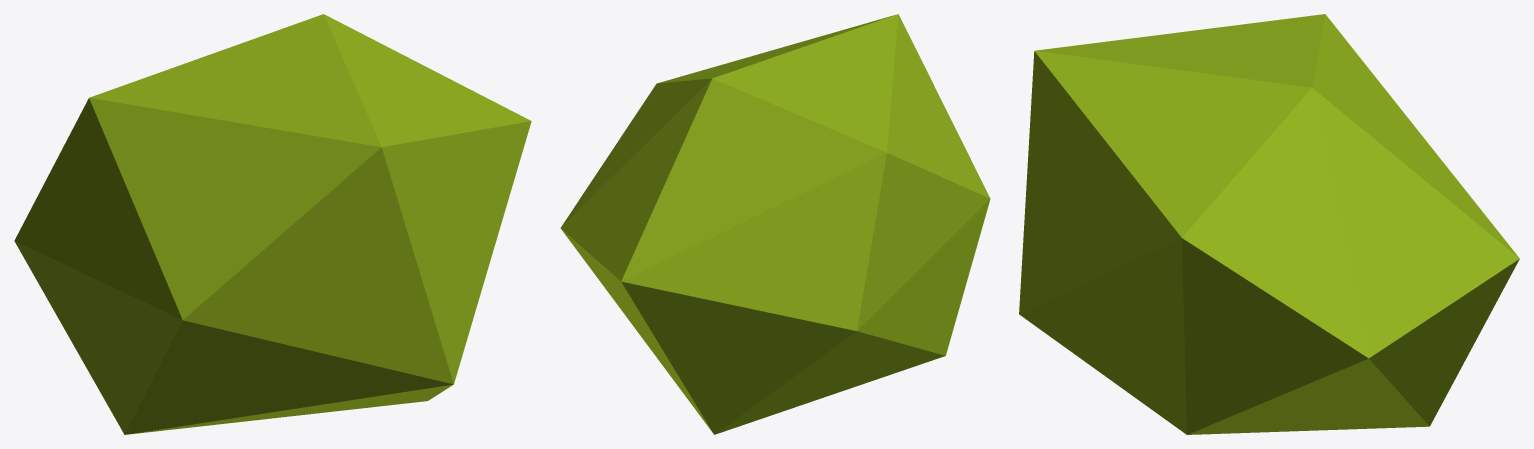
Rendered from Vegetation_Modular_Tree_Foliage_Clump_Small_01.fbx.
3 views of the same model, side by side, from view 1: azimuth 30°, elevation 25°; view 2: azimuth 150°, elevation 25°; view 3: azimuth 270°, elevation 25° (orthographic). The views are drawn at different scales.
Visible parts, largest first — view 1: Vegetation_Modular_Tree_Foliage_Clump_Small_01; view 2: Vegetation_Modular_Tree_Foliage_Clump_Small_01; view 3: Vegetation_Modular_Tree_Foliage_Clump_Small_01.
Boxes of the visible parts, <box> form: Vegetation_Modular_Tree_Foliage_Clump_Small_01: <box>14,14,531,434</box>; Vegetation_Modular_Tree_Foliage_Clump_Small_01: <box>560,14,990,434</box>; Vegetation_Modular_Tree_Foliage_Clump_Small_01: <box>1019,14,1519,434</box>.
Bounding box in the file's own units: 402 × 366 × 450.
